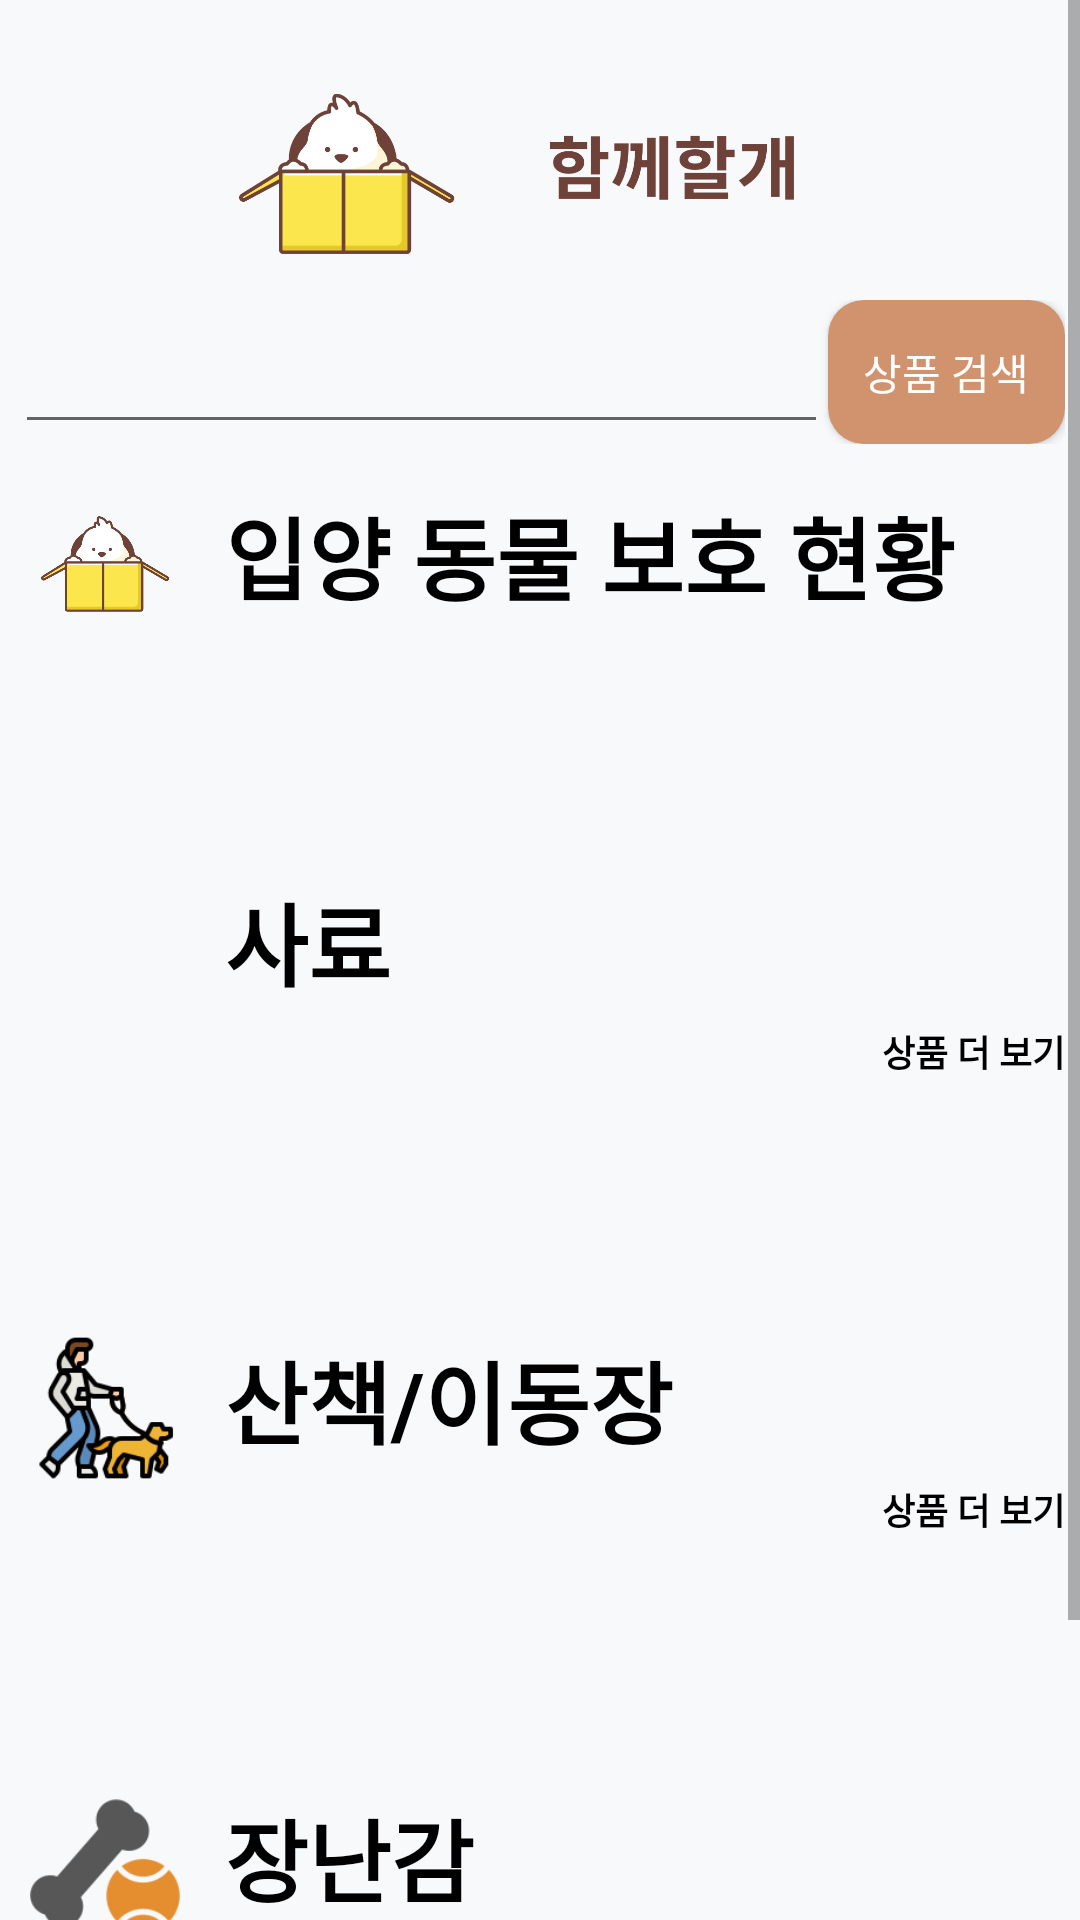

Icons on this 1080 × 1920 Android screen, each with the point to tap as (x=x, y=y):
dog walking: (x=106, y=1408)
